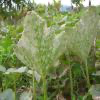Squash Powdery mildew leaf: (11, 10, 68, 77), (65, 5, 99, 61)
